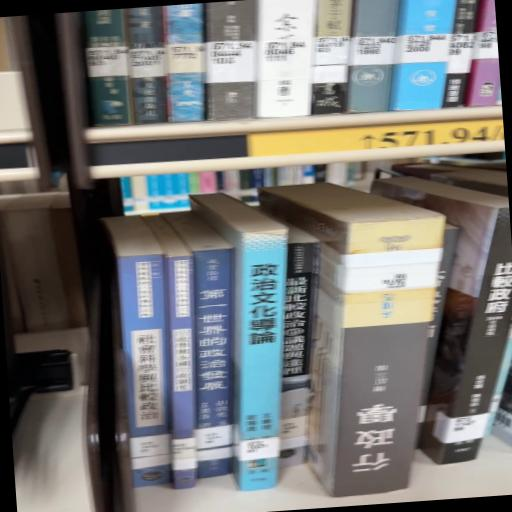reverse: (261, 185, 446, 498)
